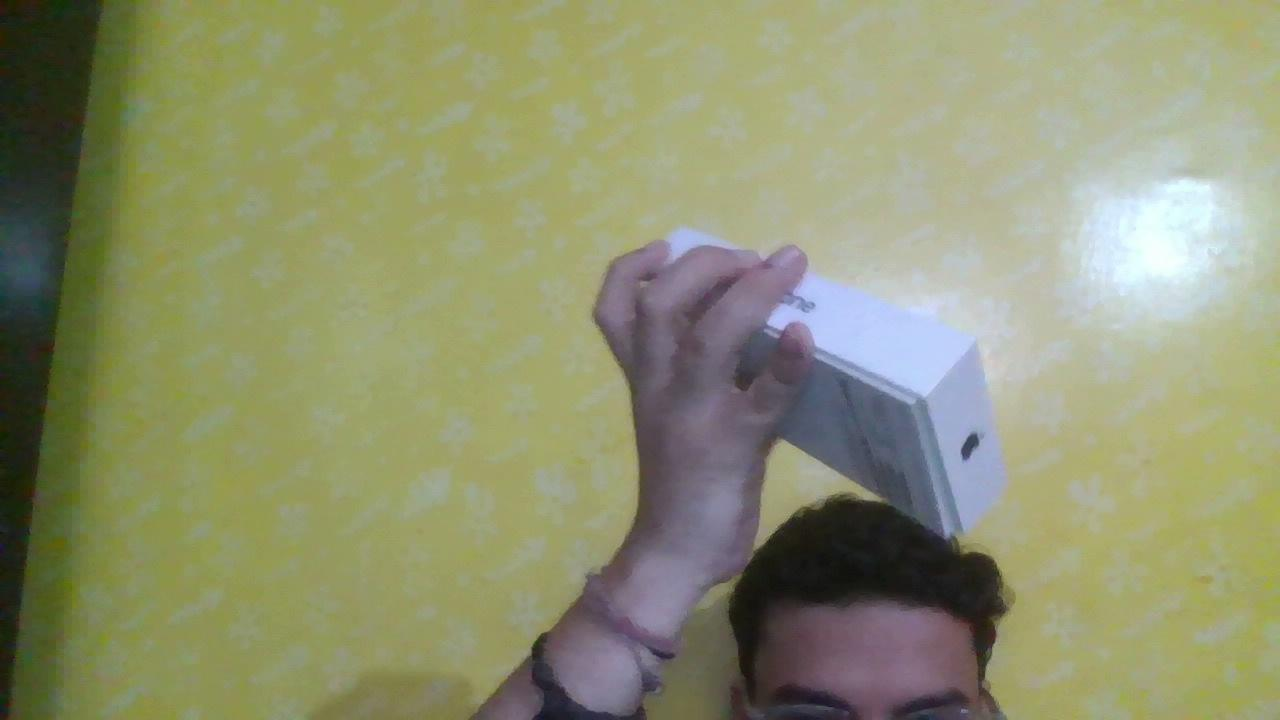Phone: (621, 227, 1050, 563)
